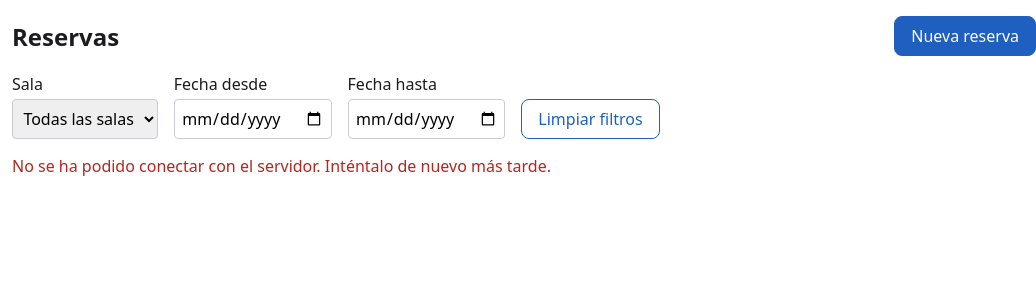
ReservaListComponent › tras un error de reservas, cambiar el filtro vuelve a listar
The width and height of the screenshot is (1036, 297).
Expected: the message "No se ha podido conectar con el servidor. Inténtalo de nuevo más tarde." is shown, [12,155,551,177]
Type "2026-10-05" into the date field with id "filtro-fecha-desde".
click(253, 119); type("2026-10-05")  # box [174,99,332,139]
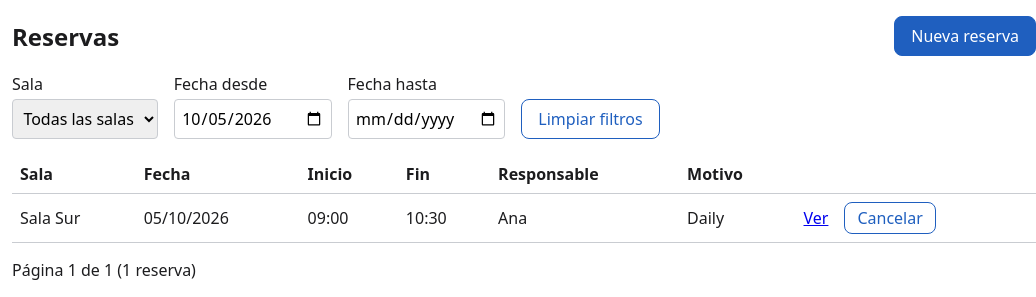
Result: the message with class "error" is gone
